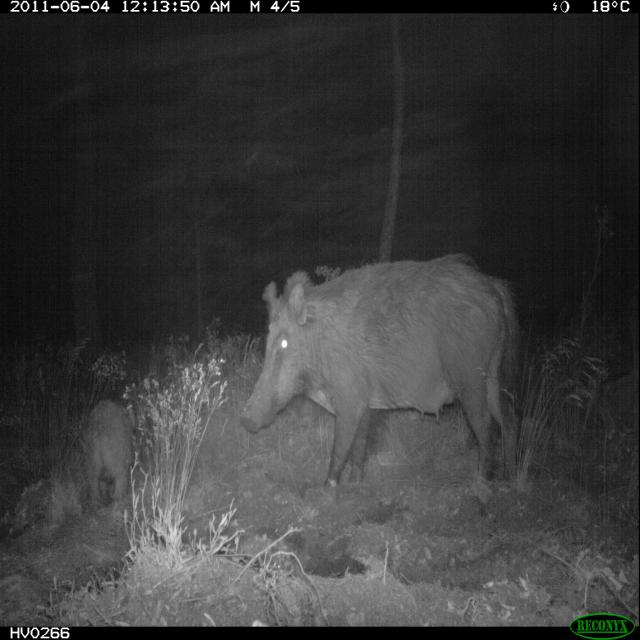boar: (223, 228, 577, 524), (46, 375, 163, 532)
